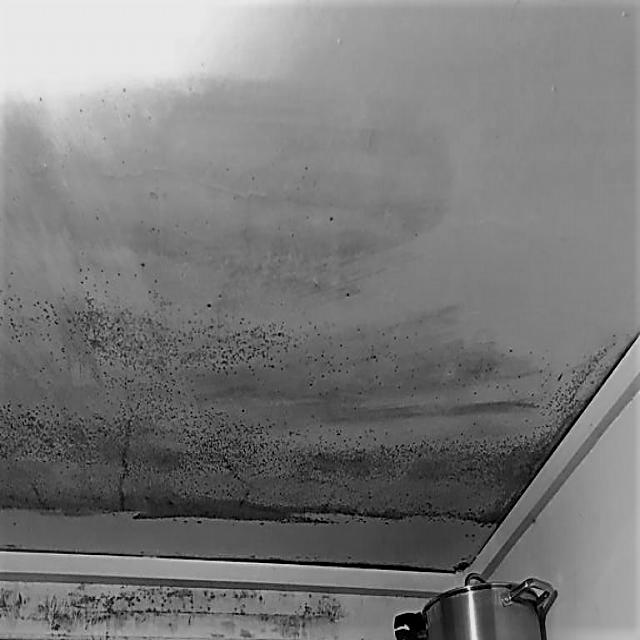stain marks: (4, 76, 466, 260), (0, 260, 613, 388), (2, 386, 560, 494), (0, 492, 506, 552), (2, 573, 350, 640)
